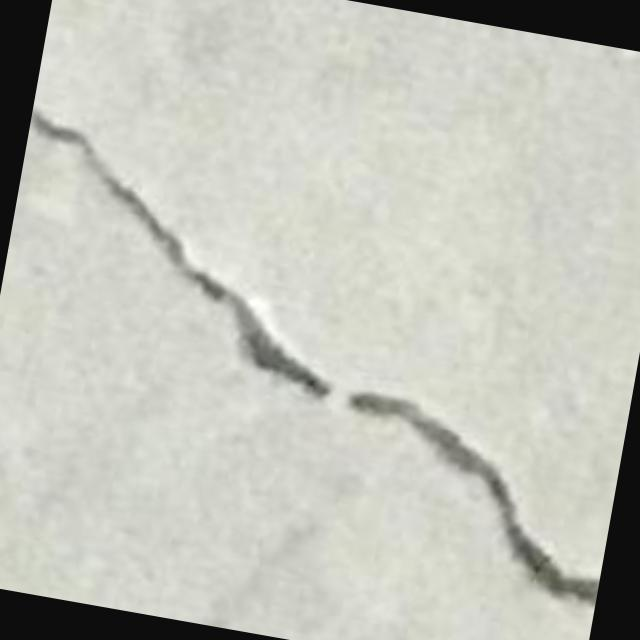crack: (30, 108, 333, 399)
